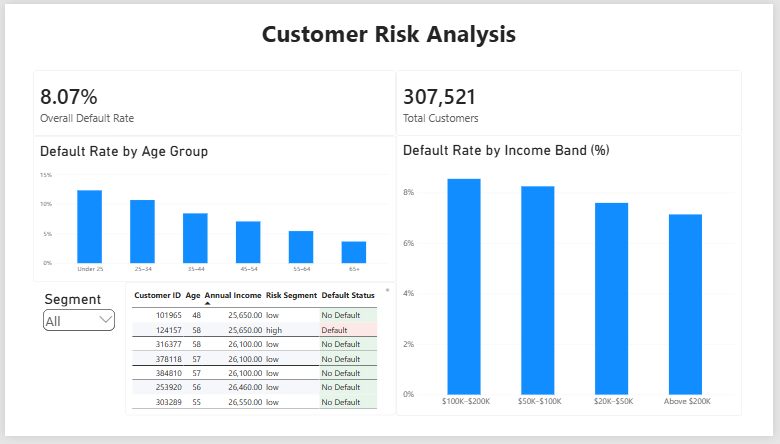

This screenshot's page, from the dashboard's own definition file:
{"tool":"powerbi","page":{"name":"Customer Risk Analysis","canvas":[1920,1080],"ordinal":1},"visuals":[{"type":"textbox","box":[818.9,0,280,280],"z":0},{"type":"textbox","box":[150,420,300,300],"z":1000},{"type":"textbox","box":[150,730,300,300],"z":2000},{"type":"textbox","box":[0,0,280,280],"z":3000},{"type":"textbox","box":[0,31.9,1919.8,142.4],"z":4000},{"type":"cardVisual","title":"Overall Default Rate","fields":{"Data":["customer_risk_profile.Default Rate"]},"box":[70,165,907.5,165],"z":5000},{"type":"cardVisual","fields":{"Data":["customer_risk_profile.Total Customers"]},"box":[977.5,165,865,165],"z":6000},{"type":"clusteredColumnChart","title":"Default Rate by Age Group","fields":{"Category":["customer_risk_profile.Age Group"],"Y":["Avg(customer_risk_profile.target)"]},"box":[70,330,907.5,365],"z":7000},{"type":"clusteredColumnChart","title":"Default Rate by Income Band (%)","fields":{"Category":["customer_risk_profile.Income Band"],"Y":["Avg(customer_risk_profile.target)"]},"box":[977.6,328.6,865.3,702],"z":8000},{"type":"slicer","fields":{"Values":["customer_risk_profile.segment"]},"box":[70,695,230,332.5],"z":9000},{"type":"tableEx","fields":{"Values":["customer_risk_profile.sk_id_curr","customer_risk_profile.age_years","customer_risk_profile.amt_income_total","customer_risk_profile.segment","customer_risk_profile.Default Status"]},"box":[300,695,677.5,332.5],"z":10000}]}

Visuals, with their boxes in screenshot pixels (x1, y1, x2, y2), scaled from the page's 1920x1080 canvas onto the 780x444 screenshot:
textbox: (333,0,446,115)
textbox: (61,173,183,296)
textbox: (61,300,183,423)
textbox: (0,0,114,115)
textbox: (0,13,779,72)
"Overall Default Rate" cardVisual: (28,68,397,136)
cardVisual - customer_risk_profile.Total Customers: (397,68,749,136)
"Default Rate by Age Group" clusteredColumnChart: (28,136,397,286)
"Default Rate by Income Band (%)" clusteredColumnChart: (397,135,749,424)
slicer - customer_risk_profile.segment: (28,286,122,422)
tableEx - customer_risk_profile.sk_id_curr x customer_risk_profile.age_years: (122,286,397,422)
